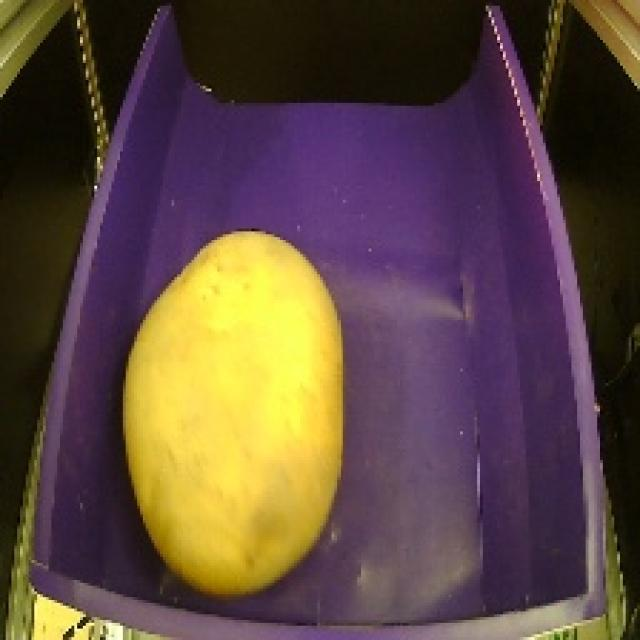full_potato: (107, 215, 356, 610)
